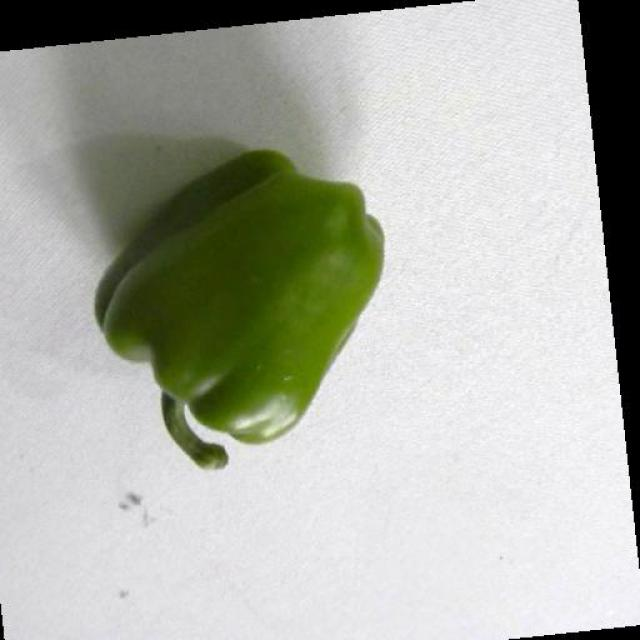Fresh_Capsicum: (98, 152, 390, 436)
